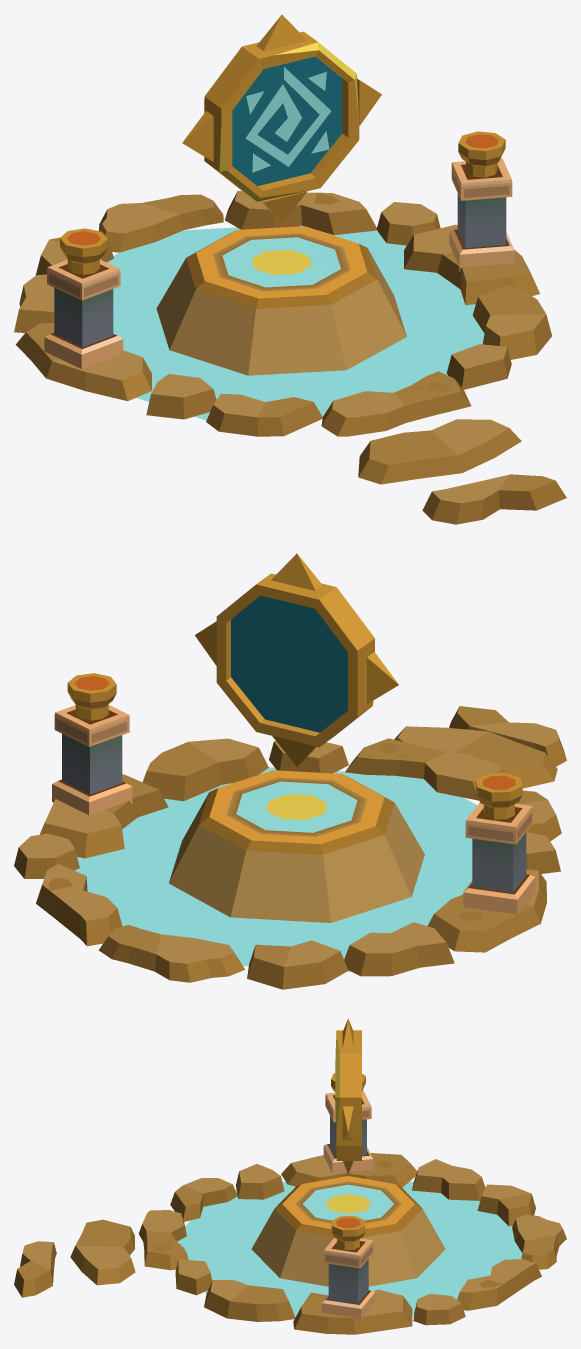
Rendered from Lake.fbx.
3 renders of one model, top to bottom at view 1: azimuth 30°, elevation 25°; view 2: azimuth 150°, elevation 25°; view 3: azimuth 270°, elevation 25°, orthographic. The views are drawn at different scales.
Visible parts, largest first — view 1: Plane.004, Circle.004; view 2: Plane.004, Circle.004; view 3: Plane.004, Circle.004.
Part boxes in pixels (bbox=[...]): Plane.004: bbox=[14, 131, 566, 524]; Circle.004: bbox=[182, 14, 381, 222]; Plane.004: bbox=[14, 673, 566, 989]; Circle.004: bbox=[195, 553, 398, 766]; Plane.004: bbox=[14, 1073, 566, 1334]; Circle.004: bbox=[335, 1018, 361, 1173].
Size of the model in its own units: 1.71 by 2.31 by 1.18.
